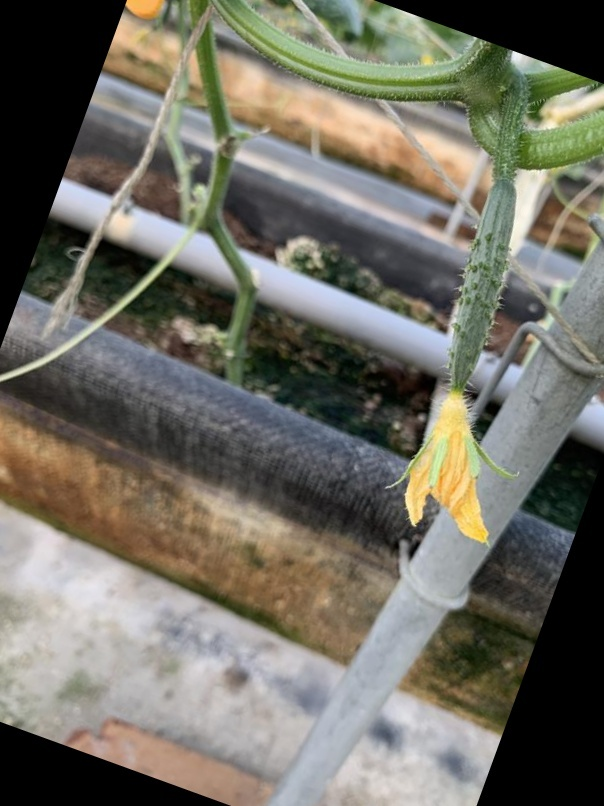bear: (377, 162, 530, 539)
